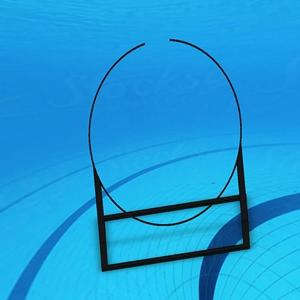circle: (88, 36, 252, 273)
